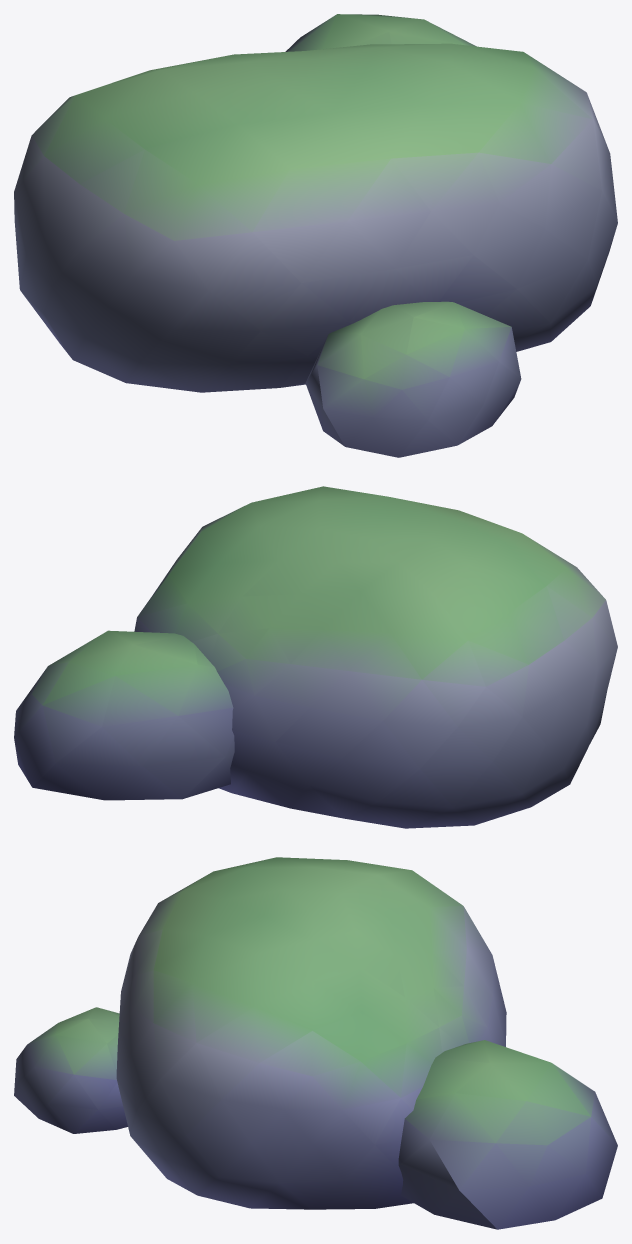
File: hub_rock_river_a.glb
3 renders of one model, top to bottom at view 1: azimuth 30°, elevation 25°; view 2: azimuth 150°, elevation 25°; view 3: azimuth 270°, elevation 25°, orthographic. The views are drawn at different scales.
Visible parts, largest first — view 1: hub_rock_river_a; view 2: hub_rock_river_a; view 3: hub_rock_river_a.
Part boxes in pixels (x1=…): hub_rock_river_a: x1=14, y1=14, x2=617, y2=457; hub_rock_river_a: x1=14, y1=486, x2=617, y2=828; hub_rock_river_a: x1=14, y1=857, x2=617, y2=1229.
Size of the model in its own units: 1.81 by 0.8004 by 2.
